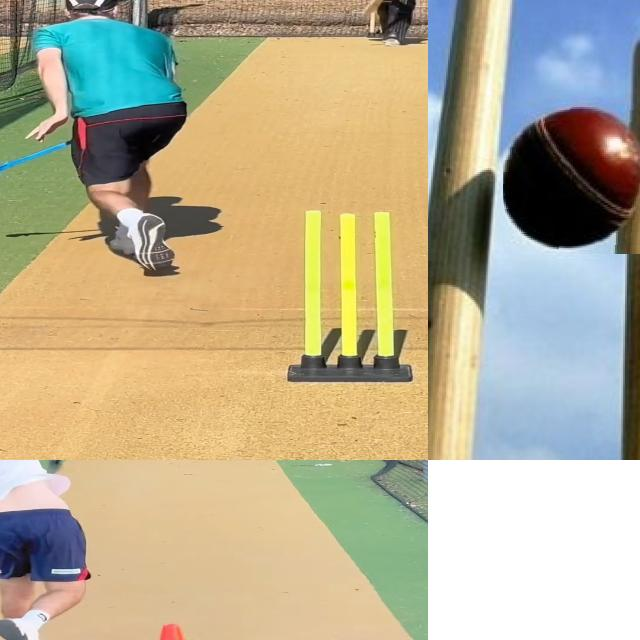Cricket ball: (502, 103, 640, 255)
Stumps: (428, 0, 640, 460)
